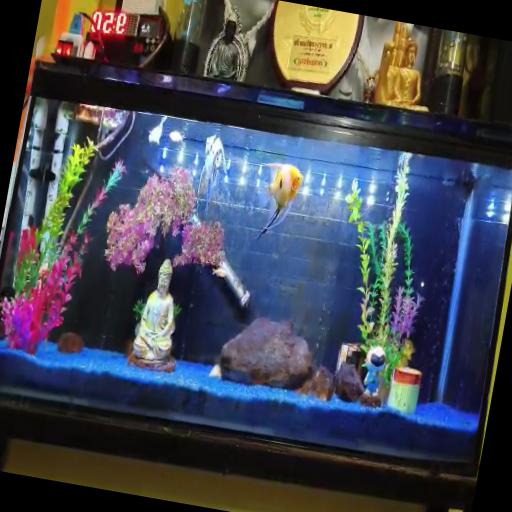Fish: (256, 163, 302, 237), (195, 135, 226, 215)
